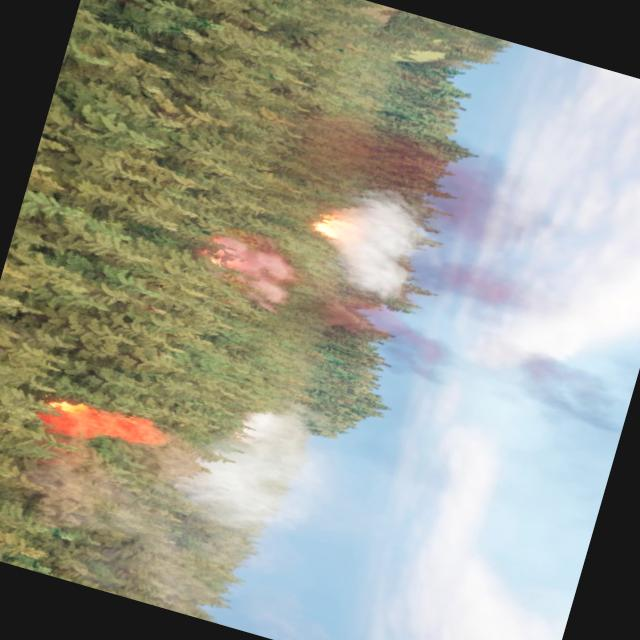fire: (33, 386, 173, 469), (300, 201, 359, 248)
smoke: (182, 86, 640, 437), (168, 383, 398, 572)
